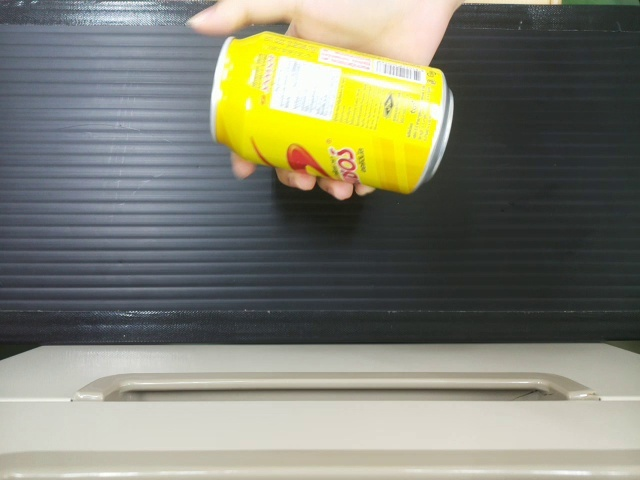can: (206, 33, 449, 189)
